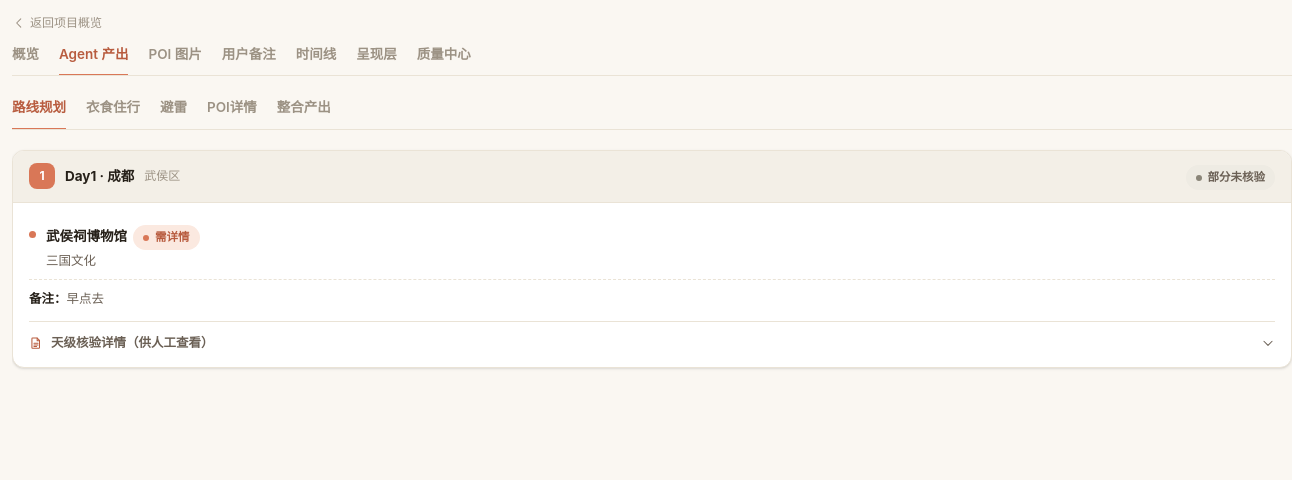
it: AgentOutputsPage › reuses claim evidence rendering for lifestyle and POI details
The width and height of the screenshot is (1292, 480).
Click the button "衣食住行". click: {"x": 113, "y": 113}
box: [86,97,140,130]
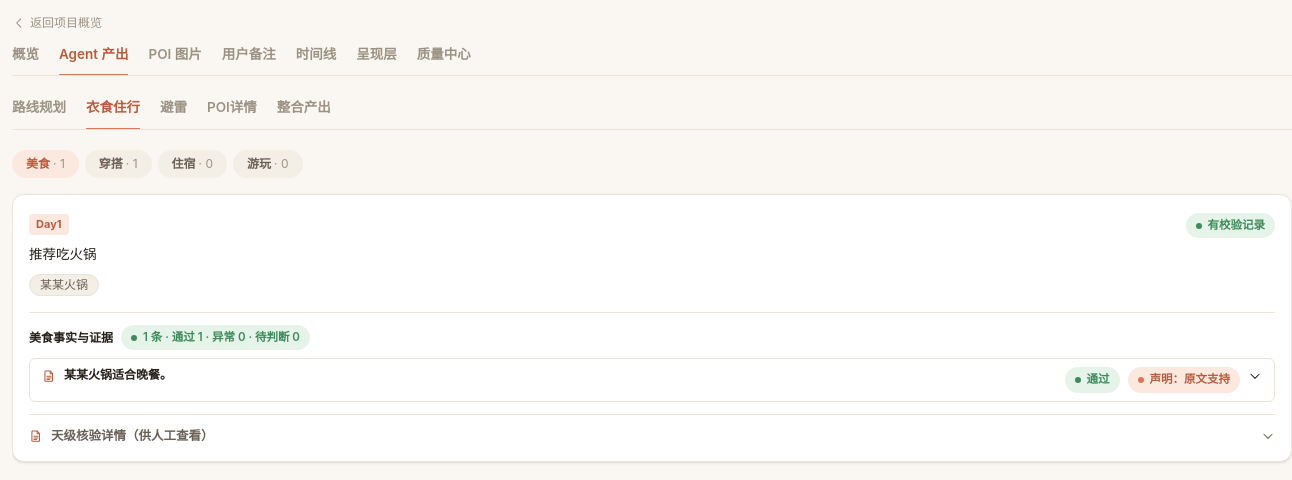
expect the heading "美食事实与证据" is shown: met, box [29,330,113,346]
expect the text "某某火锅适合晚餐。" is shown: met, box [64,367,172,382]
Click the button "POI详情". click: {"x": 232, "y": 113}
box: [207,97,257,130]
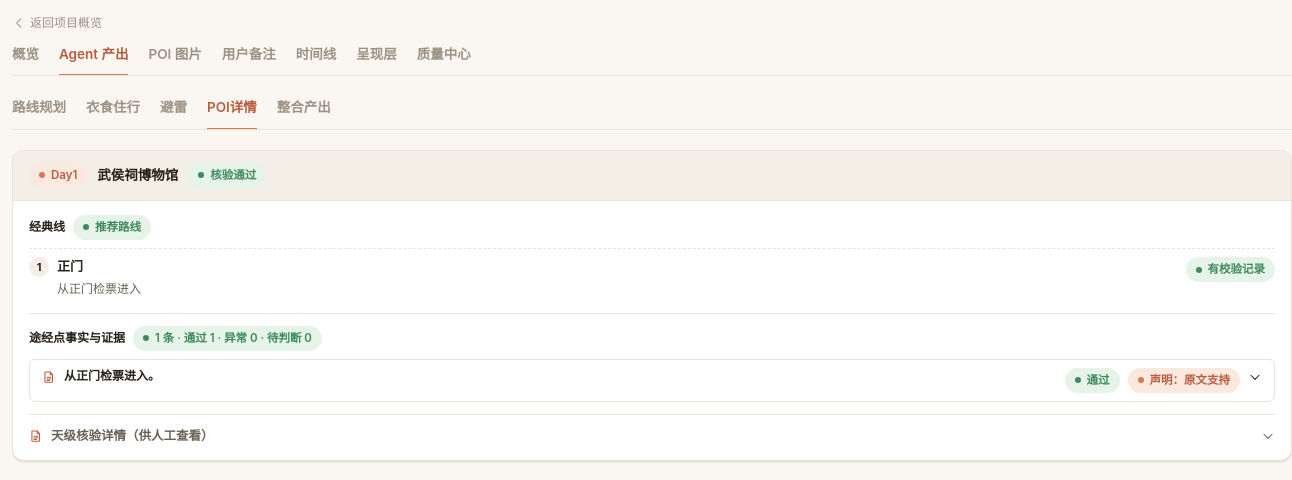
expect the heading "途经点事实与证据" is shown: met, box [29,330,125,346]
expect the text "从正门检票进入。" is shown: met, box [64,368,160,383]
